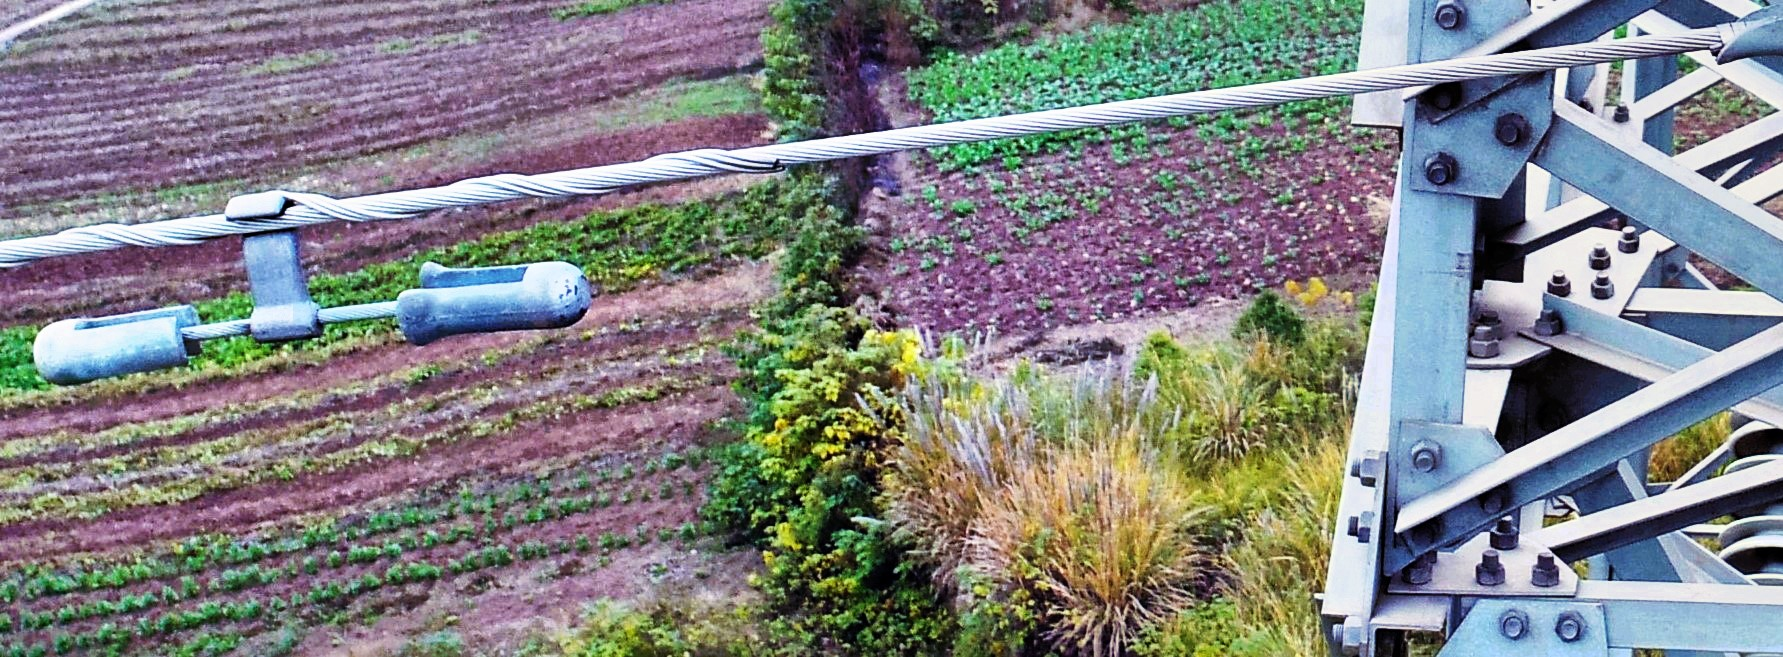Shockproof hammer: (23, 157, 604, 392)
